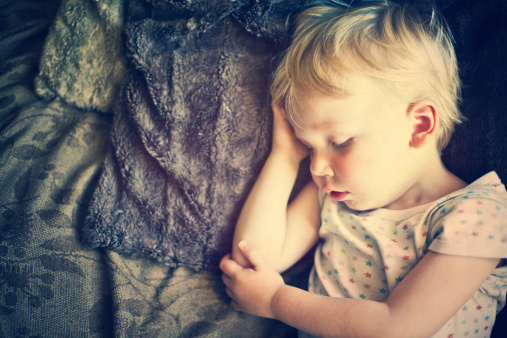deitado: (189, 8, 507, 338)
